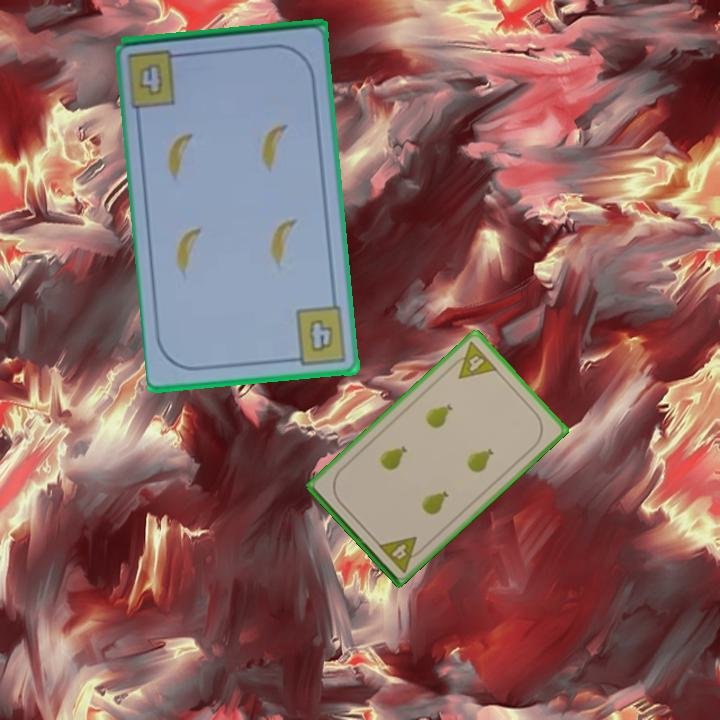4b: (286, 303, 350, 368), (135, 60, 167, 100)
4p: (446, 338, 500, 382), (374, 532, 428, 575)
